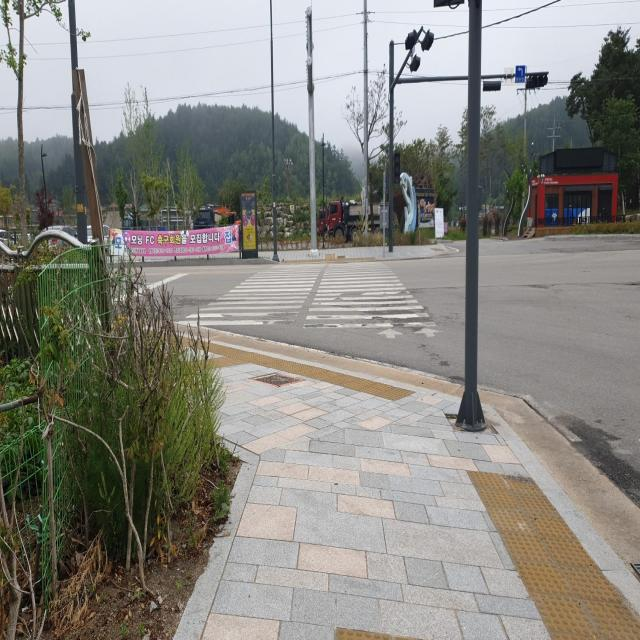횡단보도: (176, 260, 442, 342)
